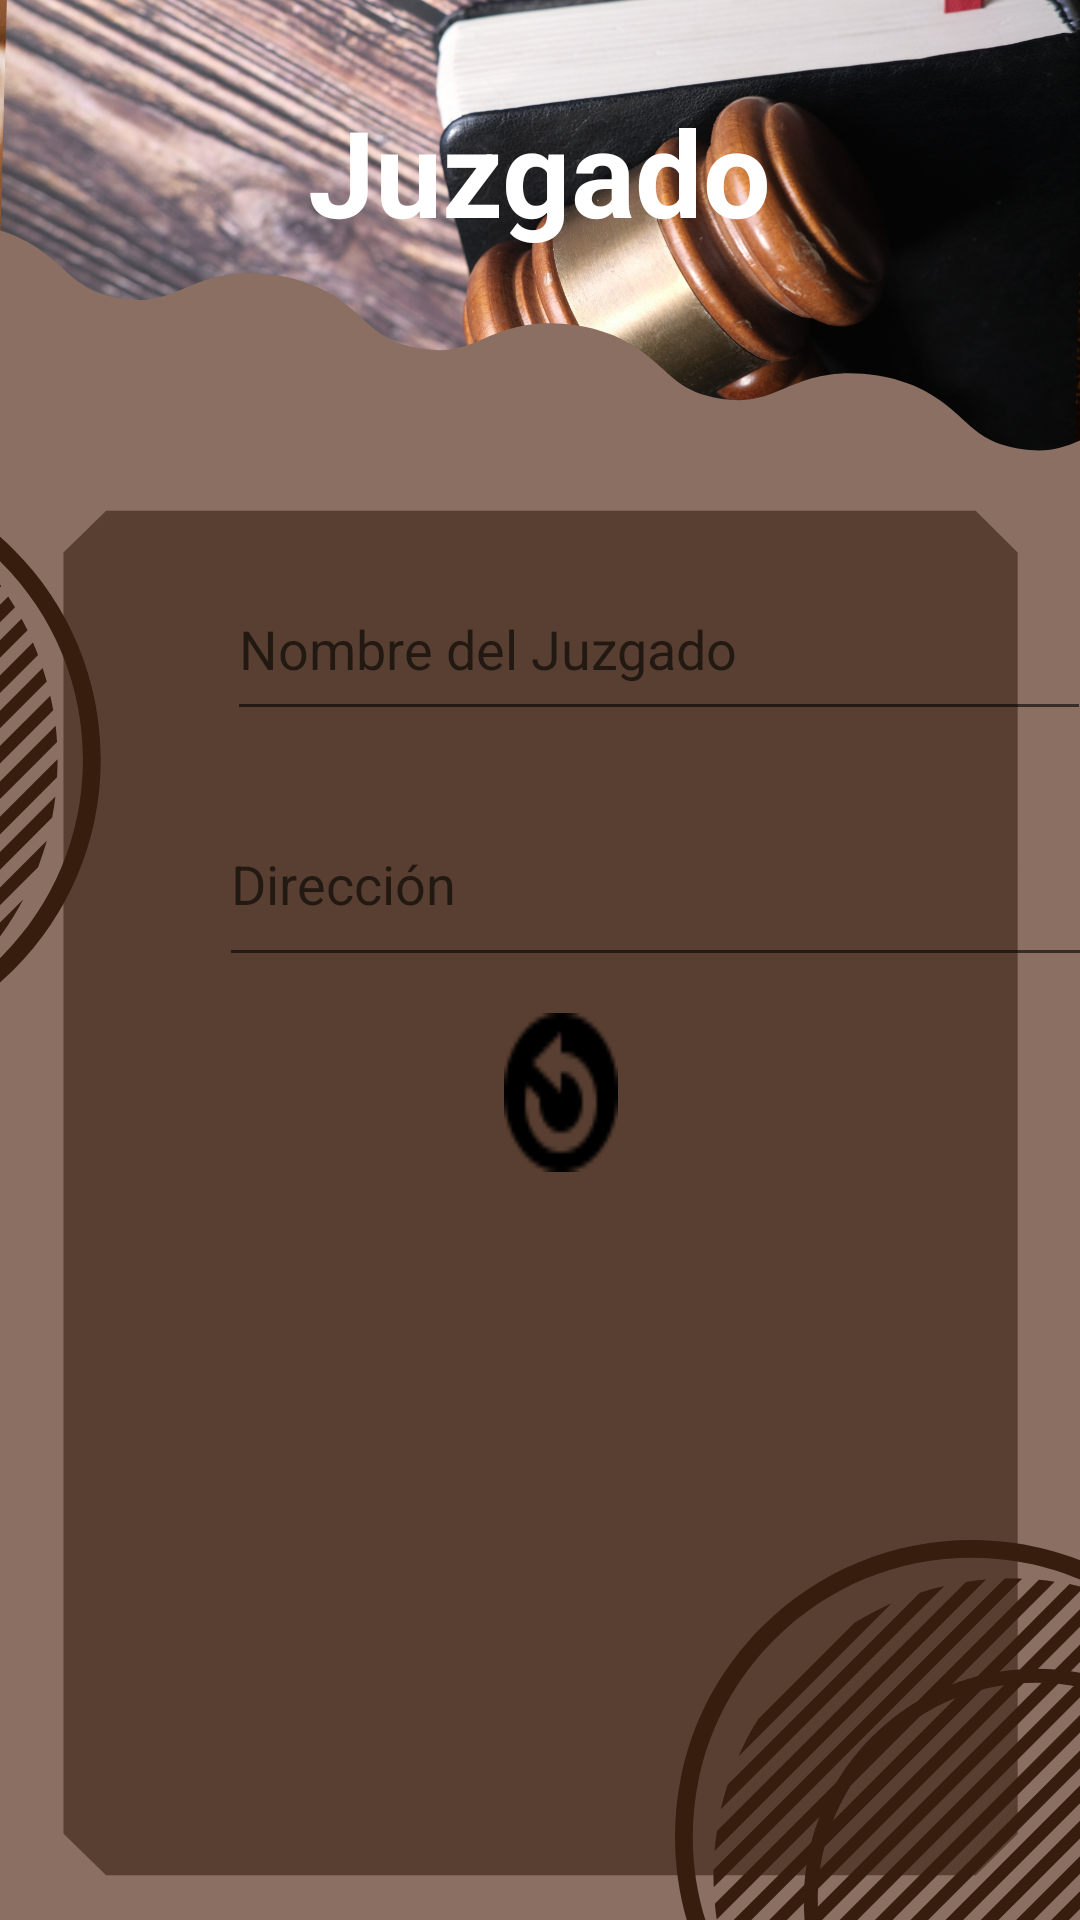

Screen size 1080×1920. Icon name, then its center in pixels as [x,y]:
actualizar: [561,1092]
